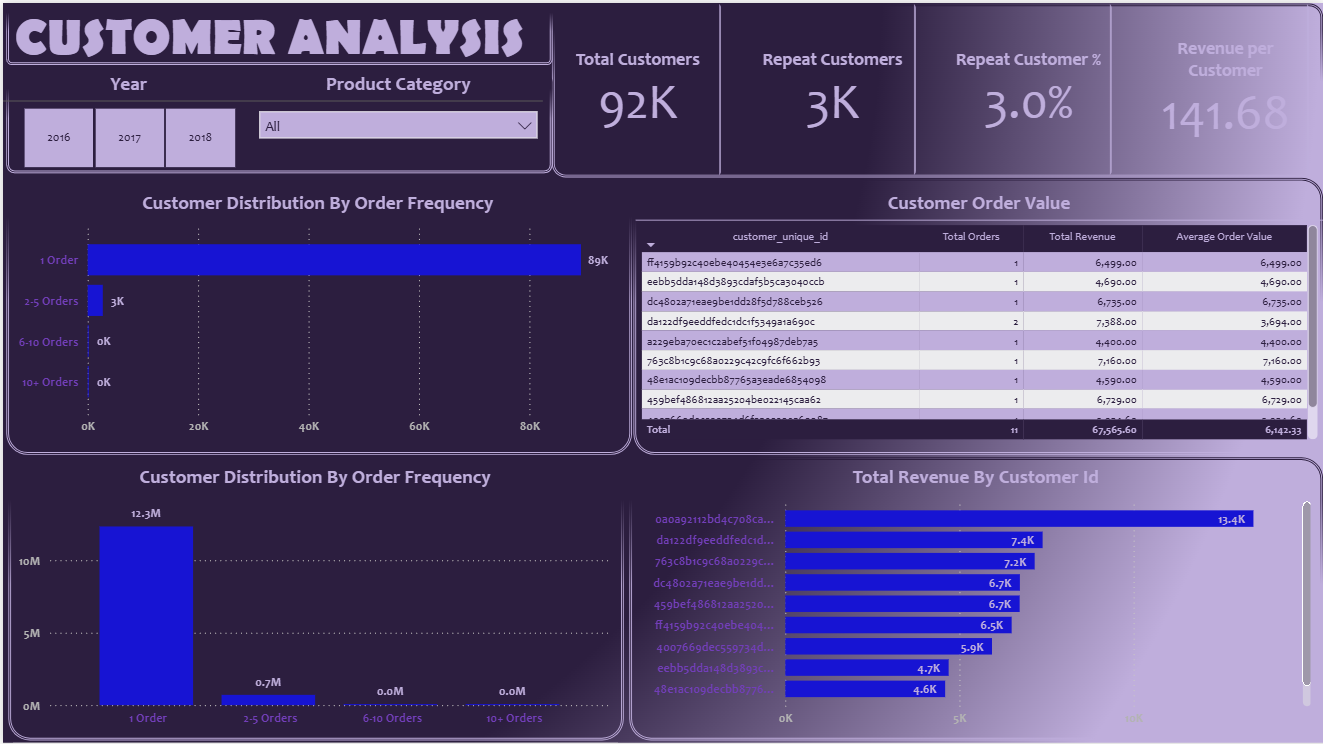

What the dashboard file says about the page in this screenshot:
{"tool":"powerbi","page":{"name":"Customer Analytics","canvas":[1280,720],"ordinal":2},"visuals":[{"type":"cardVisual","fields":{"Data":["_measures.Total Customers"]},"box":[534.3,0,172.4,168.2],"z":0},{"type":"barChart","title":"Customer Distribution  By Order Frequency","fields":{"Y":["_measures.Total Customers"],"Category":["dim_customer.Customer Order Segment"]},"box":[8.5,182,592.9,244.8],"z":1000},{"type":"cardVisual","fields":{"Data":["_measures.Repeat Customers"]},"box":[723.7,0,172.6,168.2],"z":2000},{"type":"columnChart","title":"Customer Distribution  By Order Frequency","fields":{"Y":["_measures.Total Revenue"],"Category":["dim_customer.Customer Order Segment"]},"box":[9.6,448.1,585.4,261.8],"z":3000},{"type":"cardVisual","fields":{"Data":["_measures.Repeat Customer %"]},"box":[913.2,0,172.6,168.2],"z":4000},{"type":"tableEx","title":"Customer Order Value","fields":{"Values":["dim_customer.customer_unique_id","_measures.Total Orders","_measures.Total Revenue","_measures.Average Order Value"]},"box":[613.1,182,666.3,244.8],"z":5000},{"type":"barChart","title":"Total Revenue By Customer Id","fields":{"Category":["dim_customer.customer_unique_id"],"Y":["_measures.Total Revenue"]},"box":[613.1,448.1,659.9,261.8],"z":6000},{"type":"cardVisual","fields":{"Data":["_measures.Revenue per Customer"]},"box":[1104.7,0,172.6,168.2],"z":7000},{"type":"slicer","title":"Product Category","fields":{"Values":["dim_product.product_category_name_englist"]},"box":[243.8,67.1,279.9,93.7],"z":8000},{"type":"slicer","title":"Year","fields":{"Values":["dim_date.year"]},"box":[0,67.1,243.8,93.7],"z":9000}]}

Visuals, with their boxes in screenshot pixels (x1, y1, x2, y2), scaled from the page's 1280x720 canvas onto the 1323x744 screenshot:
cardVisual - _measures.Total Customers: locate(552, 0, 730, 174)
"Customer Distribution  By Order Frequency" barChart: locate(9, 188, 622, 441)
cardVisual - _measures.Repeat Customers: locate(748, 0, 926, 174)
"Customer Distribution  By Order Frequency" columnChart: locate(10, 463, 615, 734)
cardVisual - _measures.Repeat Customer %: locate(944, 0, 1122, 174)
"Customer Order Value" tableEx: locate(634, 188, 1322, 441)
"Total Revenue By Customer Id" barChart: locate(634, 463, 1316, 734)
cardVisual - _measures.Revenue per Customer: locate(1142, 0, 1320, 174)
"Product Category" slicer: locate(252, 69, 541, 166)
"Year" slicer: locate(0, 69, 252, 166)
